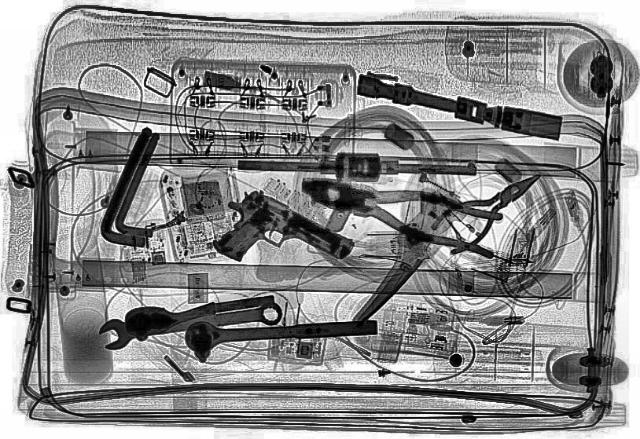Gun: (182, 184, 362, 294)
Pliers: (284, 160, 522, 260), (412, 161, 562, 257)
Wrench: (92, 298, 284, 350)
